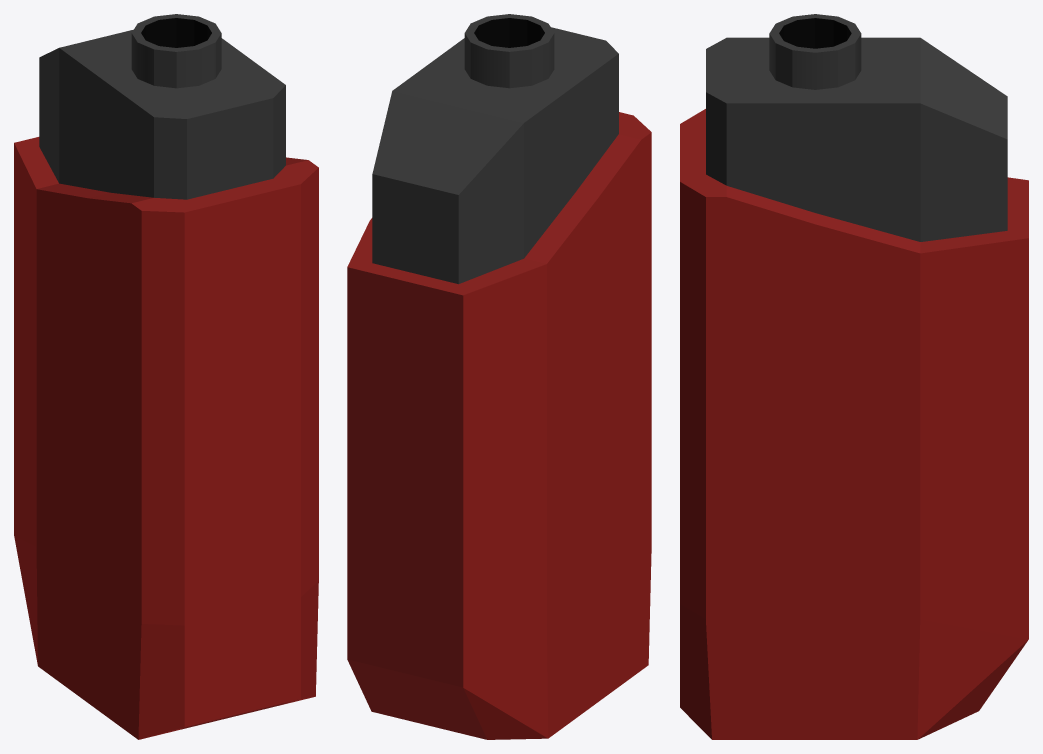
File: Msh_Barrel_B.FBX
3 renders of one model, left to right at view 1: azimuth 30°, elevation 25°; view 2: azimuth 150°, elevation 25°; view 3: azimuth 270°, elevation 25°, orthographic. The views are drawn at different scales.
Parts seen in each view (by area): view 1: Msh_Barrel_B; view 2: Msh_Barrel_B; view 3: Msh_Barrel_B.
Part boxes in pixels (x1,y1,x2,y2): Msh_Barrel_B: (14,14,318,739); Msh_Barrel_B: (347,14,651,739); Msh_Barrel_B: (680,14,1028,739).
Bounding box in the file's own units: 0.048 × 0.08 × 0.1678.
